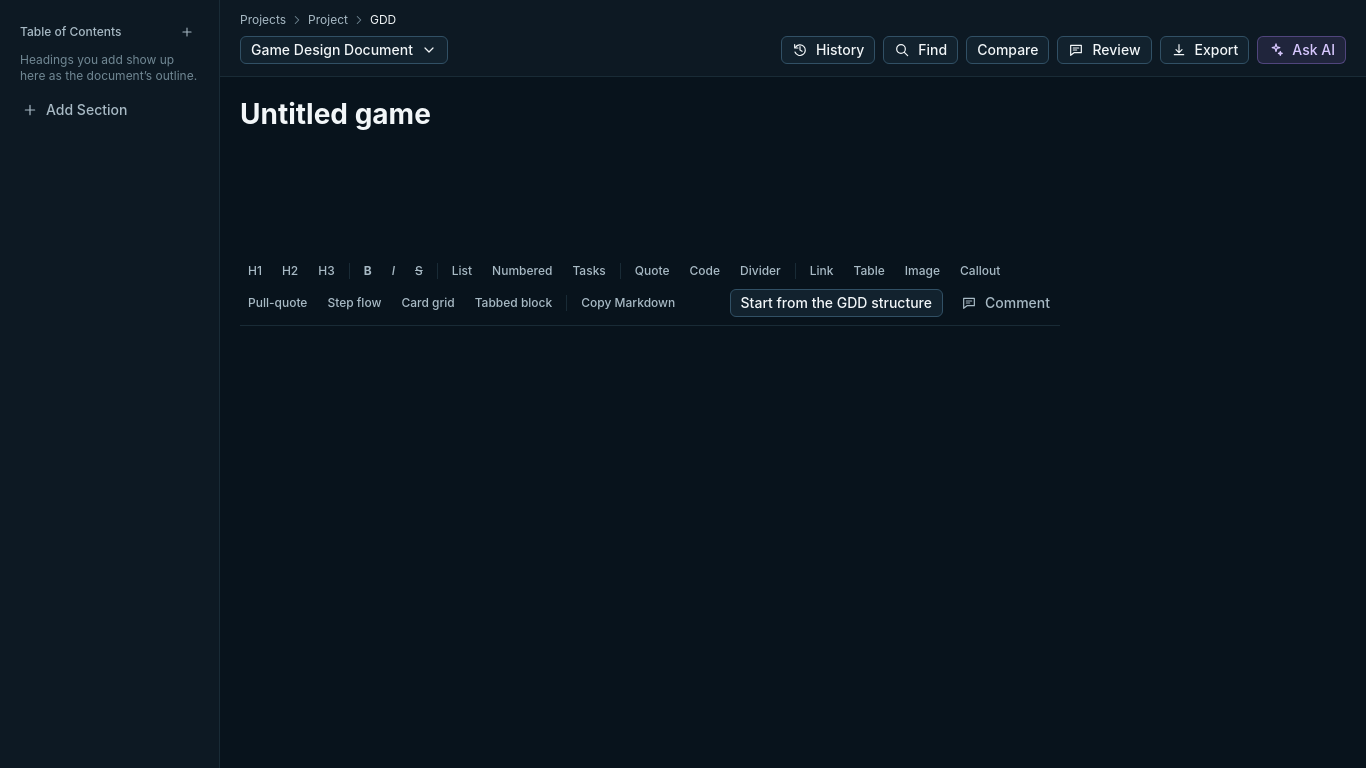
Scenario: GddWorkspace — review and comments › opens the review panel from the toolbar’s Comment button
What coordinates should you click on to do the following:
click the button "Comment"
I would click on:
 (1006, 303)
Its box is [951,289,1060,317].
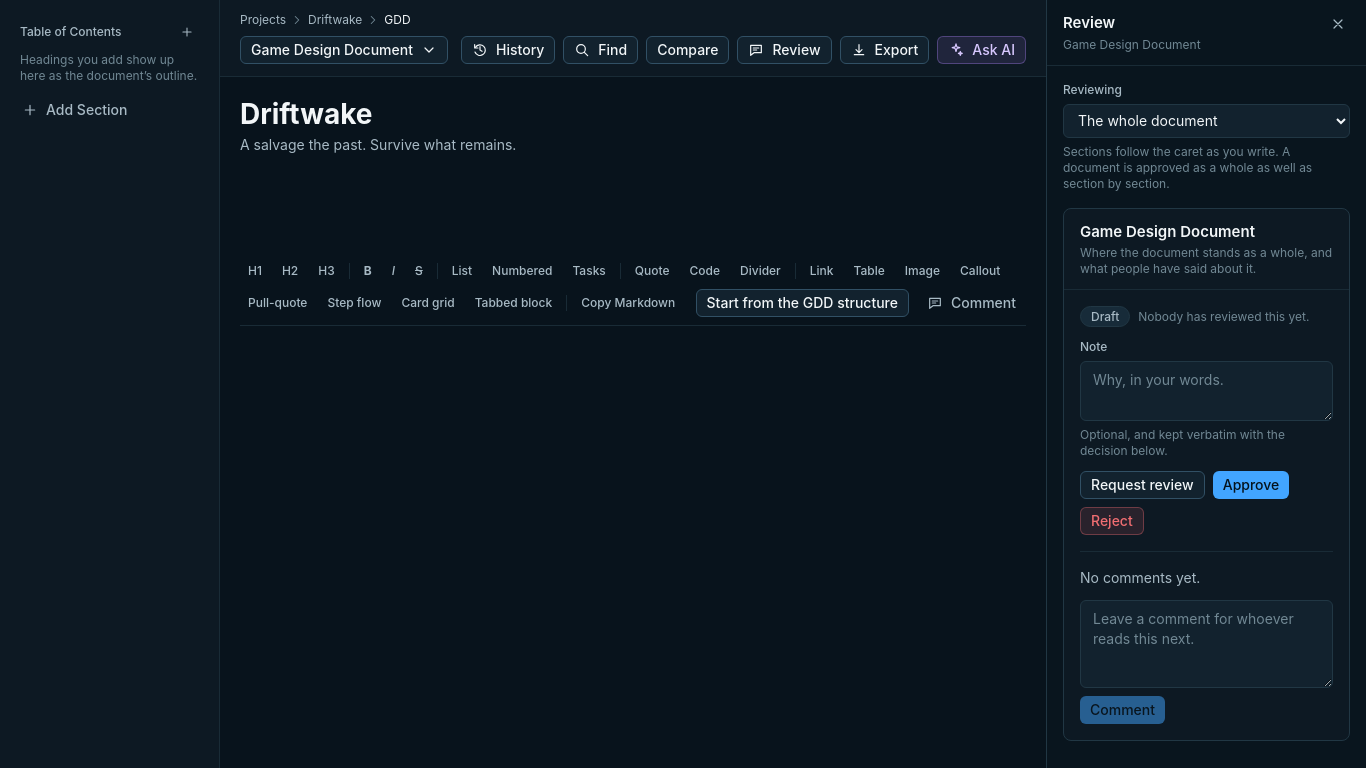
Expected: the dropdown labelled "Reviewing" is shown, [1063,104,1350,138]
